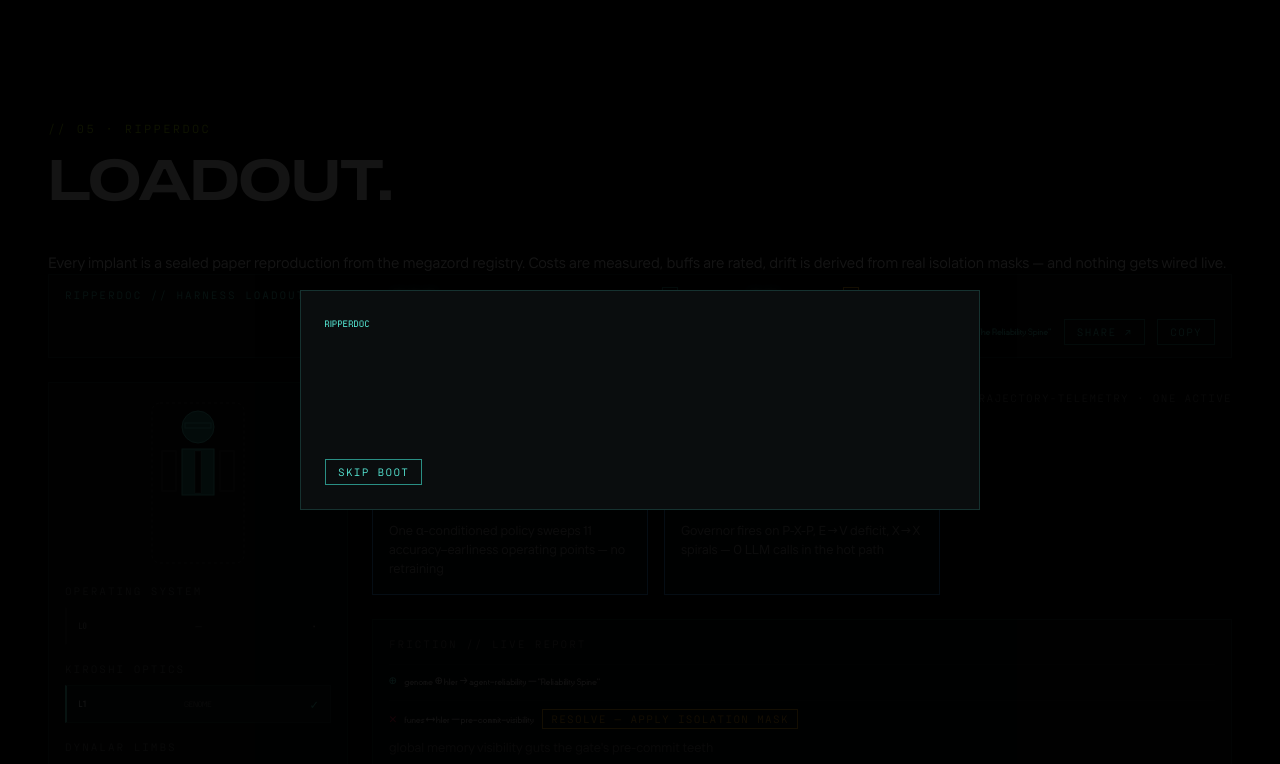
Scenario: Loadout › restores a shared build from the URL and resolves its conflict
Click the button "Skip boot" at (374,472), box [325, 459, 422, 485]
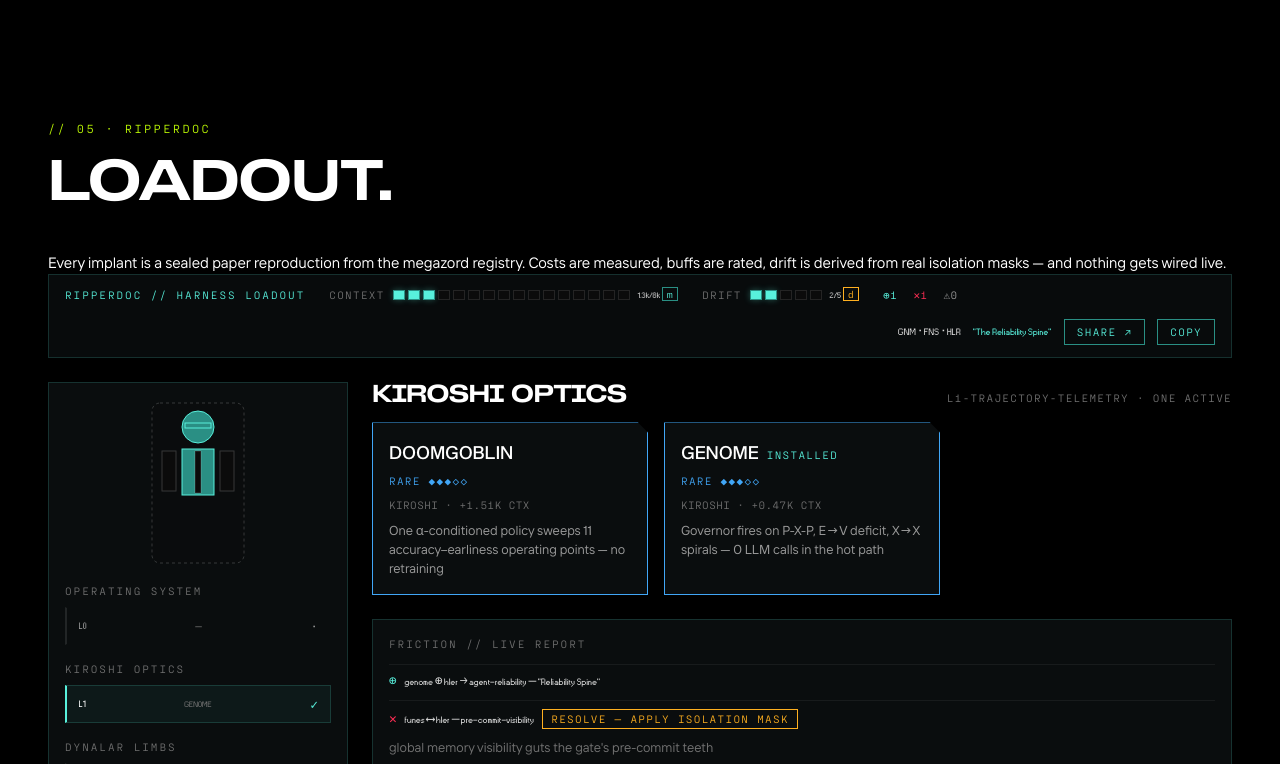
Check: the text "GNM·FNS·HLR" is shown, box [898, 323, 961, 342]
Check: the text "“The Reliability Spine”" is shown, box [973, 323, 1052, 342]
Click the button "Resolve — apply isolation mask" at (670,719), box [542, 709, 798, 729]
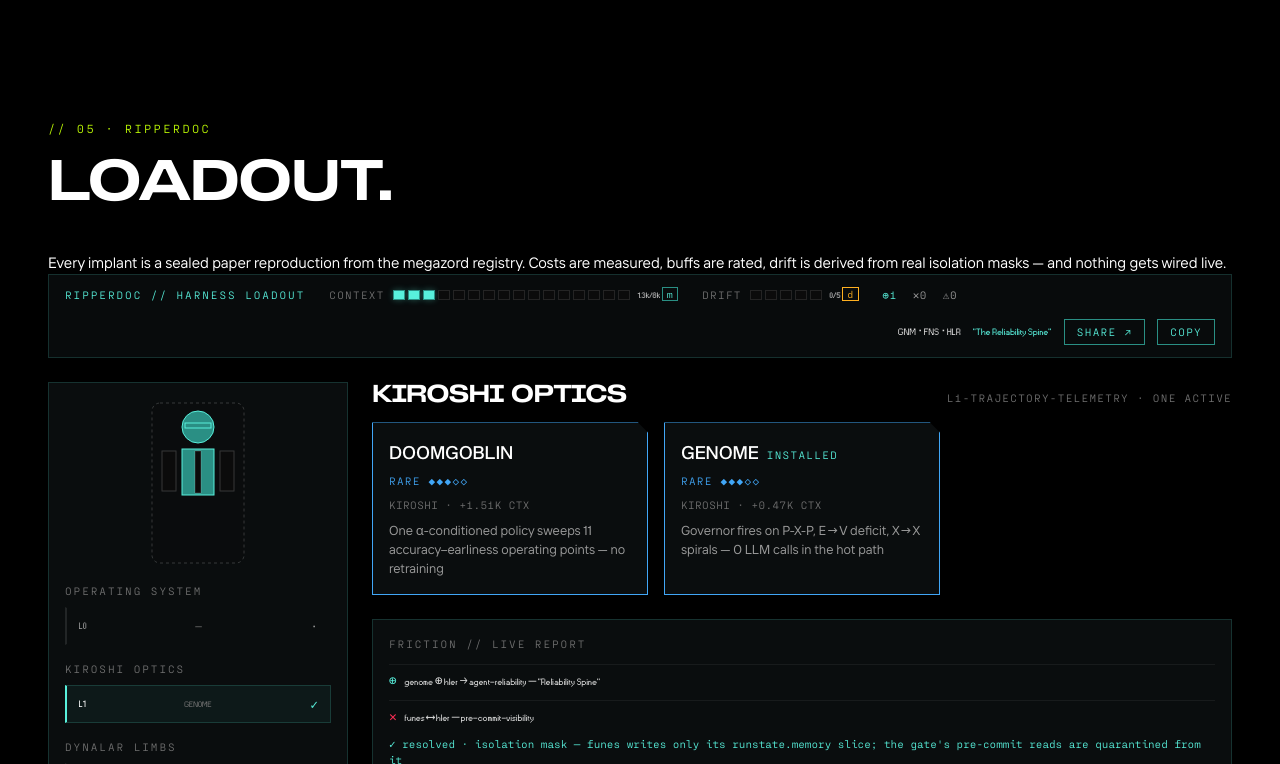
Check: the text "✓ resolved" is shown, box [389, 737, 475, 750]
Check: the element named "drift 0 of" is shown, box [702, 286, 859, 303]
